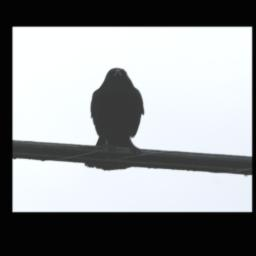Crow: (86, 68, 147, 172)
